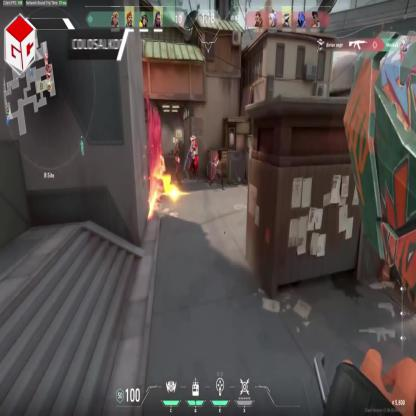enemy: (187, 133, 199, 185), (211, 148, 224, 191), (174, 152, 181, 185), (174, 141, 179, 167)
enemy_head: (191, 135, 196, 145), (215, 154, 219, 162), (176, 143, 178, 147), (176, 154, 178, 158)
